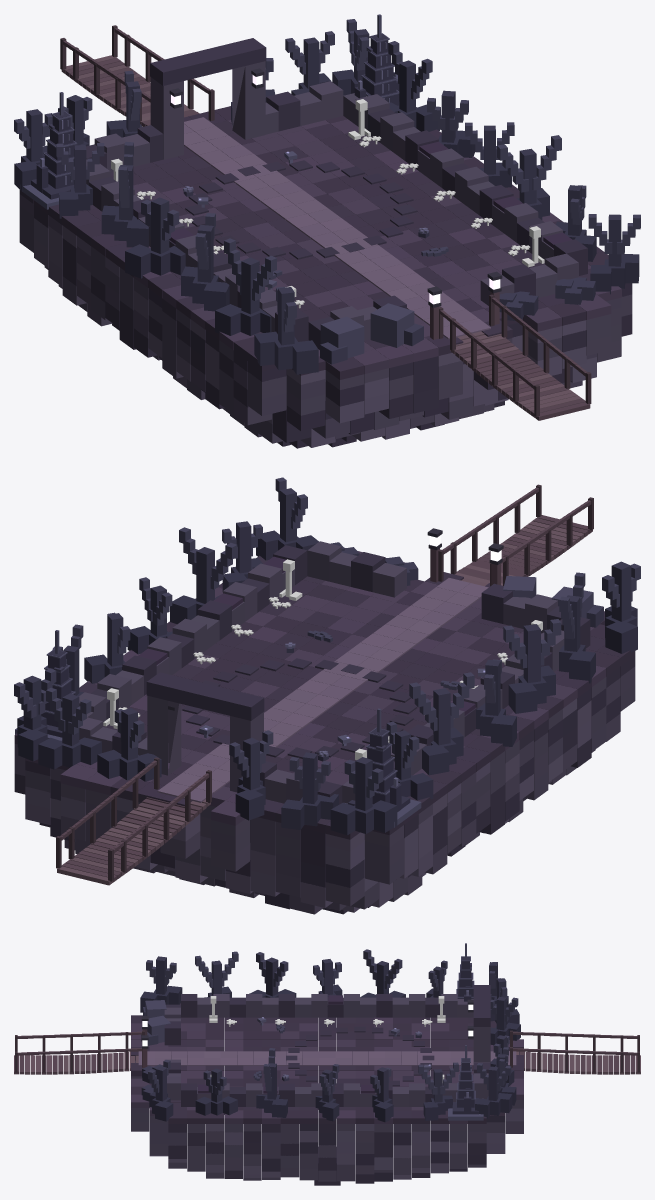
File: room_boss_polluted.glb
3 renders of one model, top to bottom at view 1: azimuth 30°, elevation 25°; view 2: azimuth 150°, elevation 25°; view 3: azimuth 270°, elevation 25°, orthographic. The views are drawn at different scales.
Visible parts, largest first — view 1: room_boss_blocks, tree2_(0, 0).001, tree0_(0, 0).001, tree0_(0, 0).002, tree1_(0, 0).001, rock_boss_relic_0_(0, 0).001, tree4_(0, 0).001, tree5_(0, 0).001, tree2_(0, 0).002, tree5_(0, 0).002, rock_boss_relic_0_(0, 0).002, tree4_(0, 0).002 (+12 smaller); view 2: room_boss_blocks, tree4_(0, 0).001, tree2_(0, 0).002, tree0_(0, 0).003, tree1_(0, 0).004, tree0_(0, 0).001, tree5_(0, 0).001, tree0_(0, 0).004, tree0_(0, 0).005, tree4_(0, 0).003, tree1_(0, 0).003, tree2_(0, 0).001 (+11 smaller); view 3: room_boss_blocks, tree1_(0, 0).003, rock_boss_relic_0_(0, 0).002, tree5_(0, 0).002, tree0_(0, 0).001, tree3_(0, 0).001, tree5_(0, 0).001, tree1_(0, 0).001, tree2_(0, 0).002, tree4_(0, 0).001, tree4_(0, 0).003, tree3_(0, 0).002 (+10 smaller).
Boxes of the visible parts, bbox=[...] form: room_boss_blocks: bbox=[19, 25, 632, 448]; tree2_(0, 0).001: bbox=[215, 238, 276, 335]; tree0_(0, 0).001: bbox=[254, 286, 318, 374]; tree0_(0, 0).002: bbox=[125, 197, 185, 278]; tree1_(0, 0).001: bbox=[588, 214, 640, 294]; rock_boss_relic_0_(0, 0).001: bbox=[20, 92, 77, 209]; tree4_(0, 0).001: bbox=[181, 213, 229, 311]; tree5_(0, 0).001: bbox=[497, 135, 561, 219]; tree2_(0, 0).002: bbox=[101, 142, 148, 247]; tree5_(0, 0).002: bbox=[388, 41, 439, 131]; rock_boss_relic_0_(0, 0).002: bbox=[354, 14, 399, 106]; tree4_(0, 0).002: bbox=[56, 143, 104, 218]; room_boss_blocks: bbox=[14, 484, 635, 914]; tree4_(0, 0).001: bbox=[503, 619, 561, 713]; tree2_(0, 0).002: bbox=[409, 672, 474, 775]; tree0_(0, 0).003: bbox=[330, 757, 397, 835]; tree1_(0, 0).004: bbox=[38, 687, 101, 769]; tree0_(0, 0).001: bbox=[602, 561, 640, 653]; tree5_(0, 0).001: bbox=[170, 527, 237, 624]; tree0_(0, 0).004: bbox=[281, 752, 338, 829]; tree0_(0, 0).005: bbox=[97, 708, 161, 781]; tree4_(0, 0).003: bbox=[229, 730, 273, 820]; tree1_(0, 0).003: bbox=[14, 668, 56, 761]; tree2_(0, 0).001: bbox=[559, 572, 595, 683]; room_boss_blocks: bbox=[14, 985, 640, 1185]; tree1_(0, 0).003: bbox=[475, 1063, 512, 1118]; rock_boss_relic_0_(0, 0).002: bbox=[448, 1045, 483, 1120]; tree5_(0, 0).002: bbox=[418, 1062, 458, 1120]; tree0_(0, 0).001: bbox=[140, 956, 182, 1012]; tree3_(0, 0).001: bbox=[195, 1068, 237, 1115]; tree5_(0, 0).001: bbox=[256, 1048, 287, 1117]; tree1_(0, 0).001: bbox=[148, 1059, 173, 1121]; tree2_(0, 0).002: bbox=[360, 949, 405, 997]; tree4_(0, 0).001: bbox=[249, 952, 296, 997]; tree4_(0, 0).003: bbox=[490, 994, 520, 1045]; tree3_(0, 0).002: bbox=[370, 1067, 393, 1122].
Bounding box in the file's own units: 17.98 × 12.56 × 38.5.
